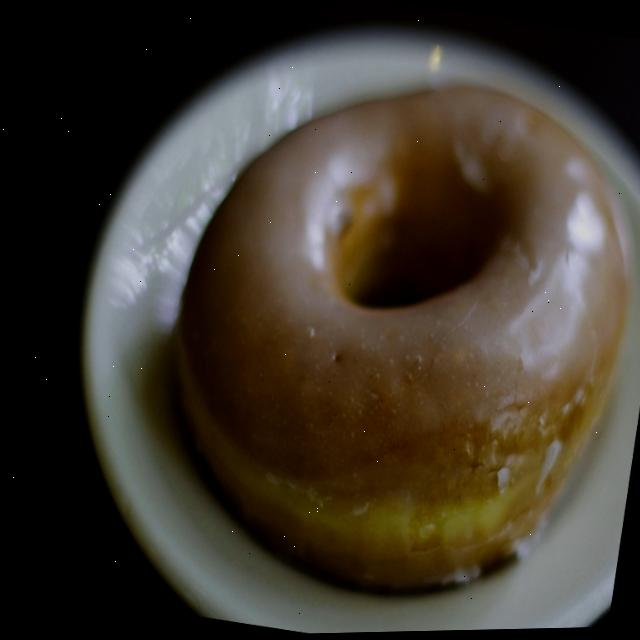炸货点心: (3, 0, 640, 640)
